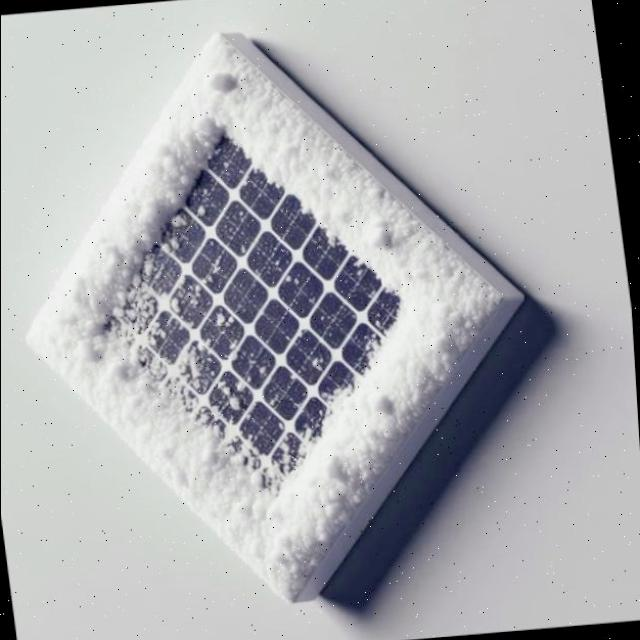Anomaly Solar Panel: (0, 30, 534, 604)
Snow: (0, 31, 534, 605), (91, 133, 418, 458)
